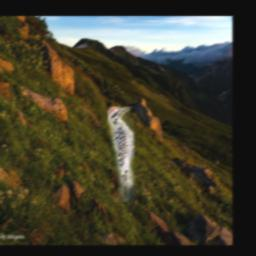Woodpecker: (109, 107, 135, 203)
